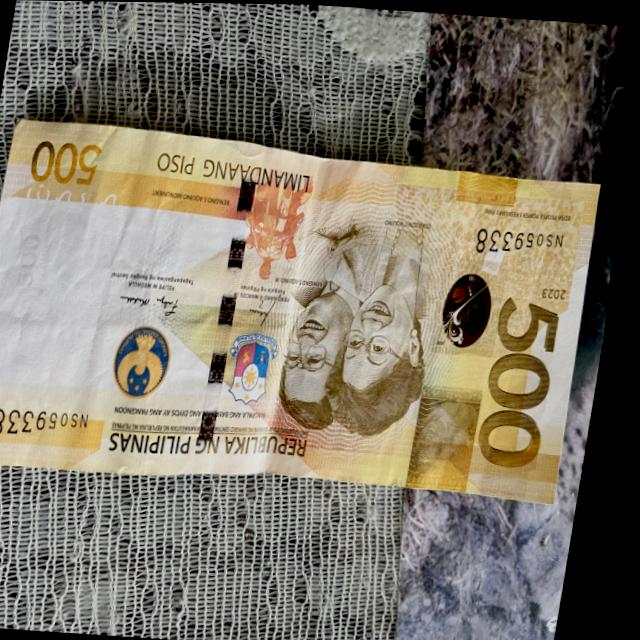concealed_value: (416, 381, 493, 490)
optically_variable_device: (437, 258, 512, 354)
security_thread: (203, 145, 267, 472)
see_through_mark: (26, 182, 126, 218)
value: (485, 294, 571, 467)
value_watermark: (21, 232, 47, 287)
